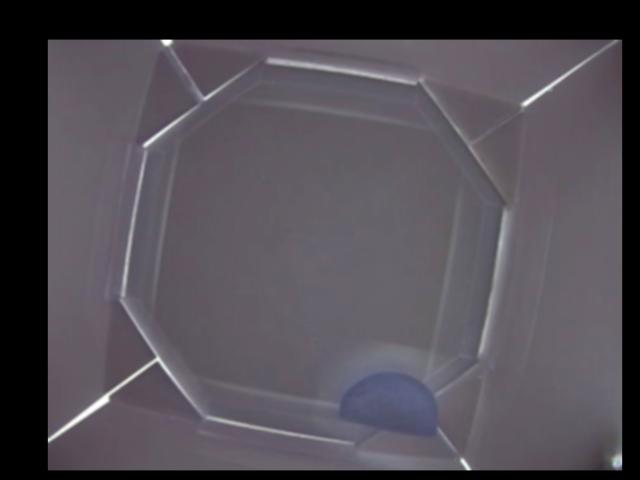Mooli: (338, 371, 436, 436)
